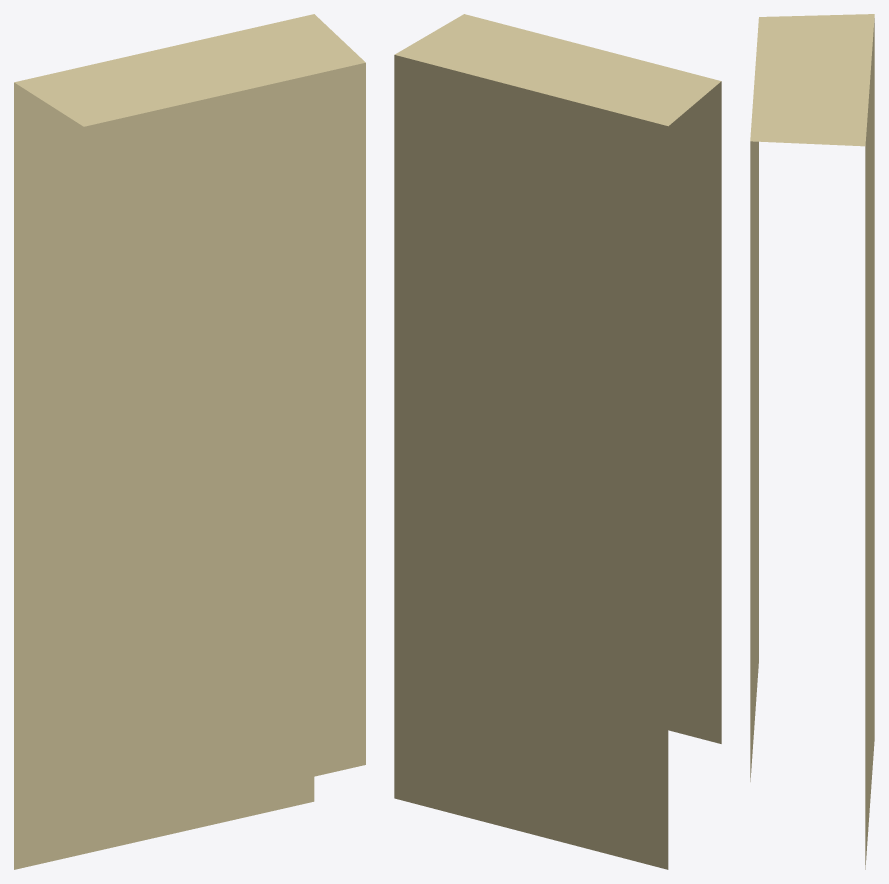
File: wall20.fbx
3 views of the same model, side by side, from view 1: azimuth 30°, elevation 25°; view 2: azimuth 150°, elevation 25°; view 3: azimuth 270°, elevation 25° (orthographic). The views are drawn at different scales.
Parts seen in each view (by area): view 1: duvar.017; view 2: duvar.017; view 3: duvar.017.
Part boxes in pixels (bbox=[...]): duvar.017: bbox=[14, 14, 365, 869]; duvar.017: bbox=[394, 14, 721, 869]; duvar.017: bbox=[750, 14, 874, 869].
Size of the model in its own units: 17.65 by 44.99 by 7.02.
